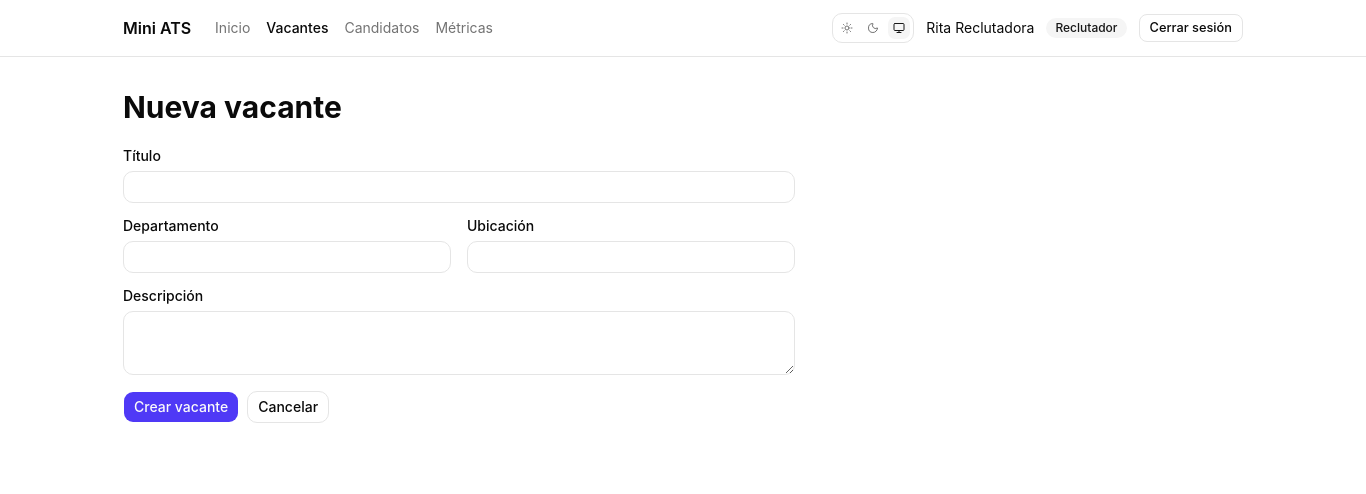
Scenario: job form › shows other errors as an alert
In the field labelled "Título": (459, 187) [123,171,795,203], type "QA"
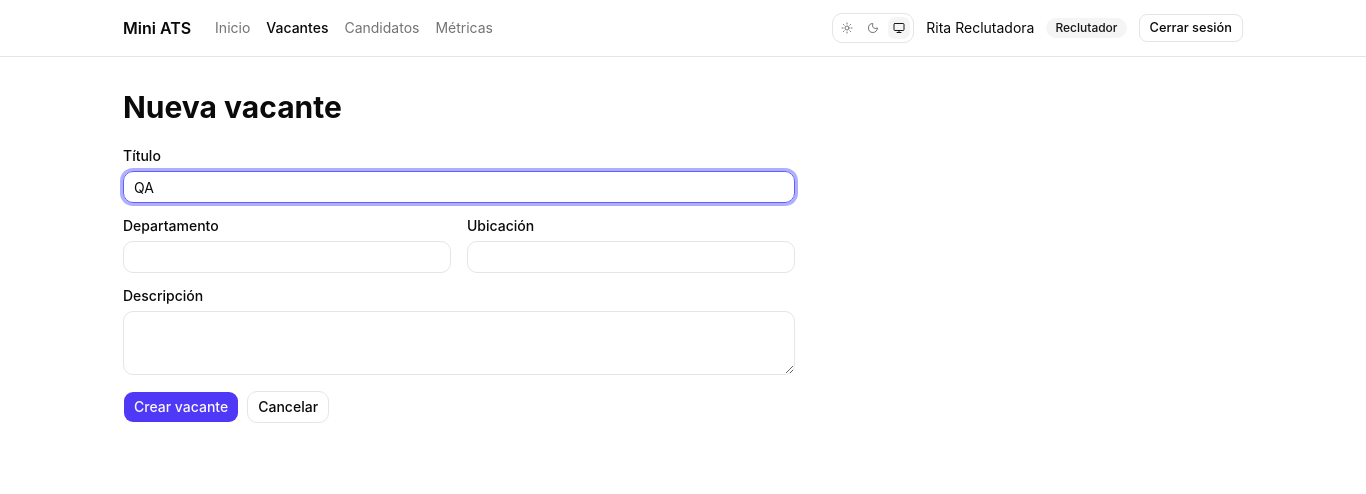
Click the button "Crear vacante": (181, 407) [123,391,239,423]
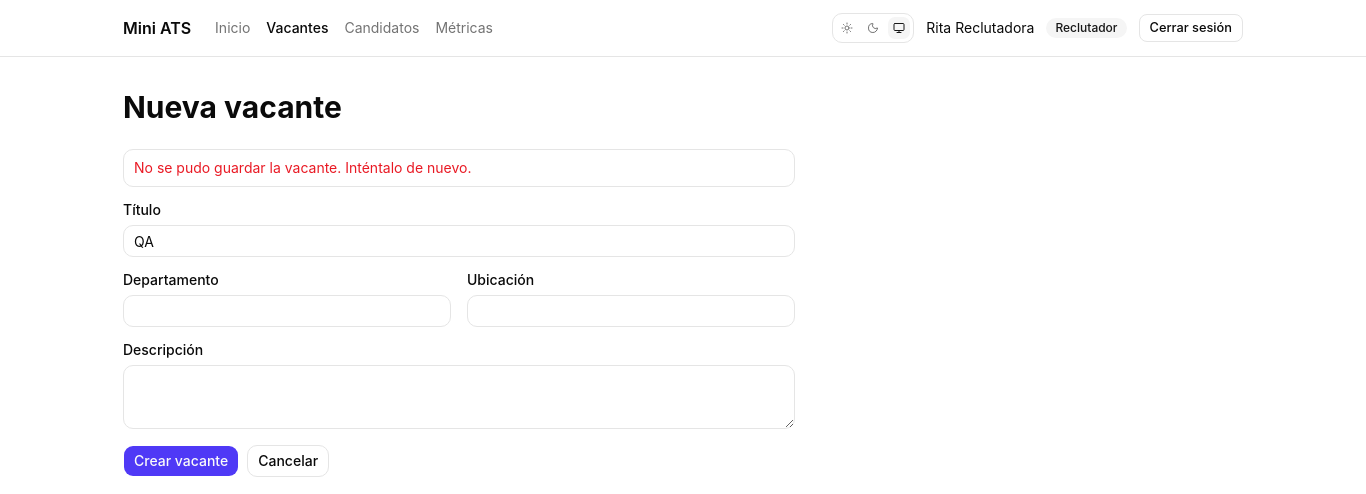
expect the text "No se pudo guardar la vacante. Inténtalo de nuevo." is shown: met, box [134,159,472,176]
